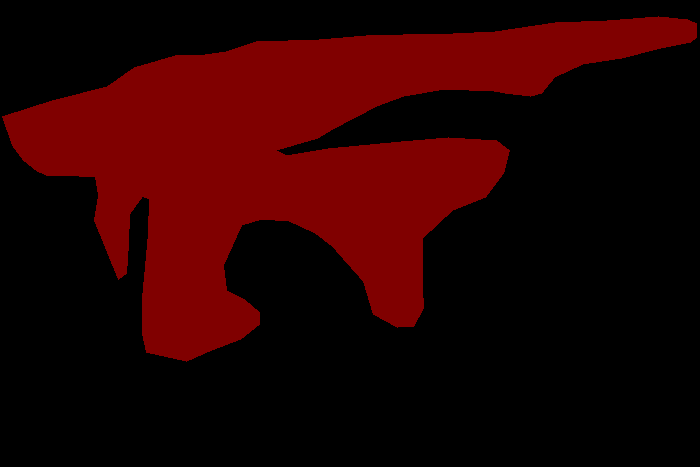fire: (2, 16, 696, 361)
